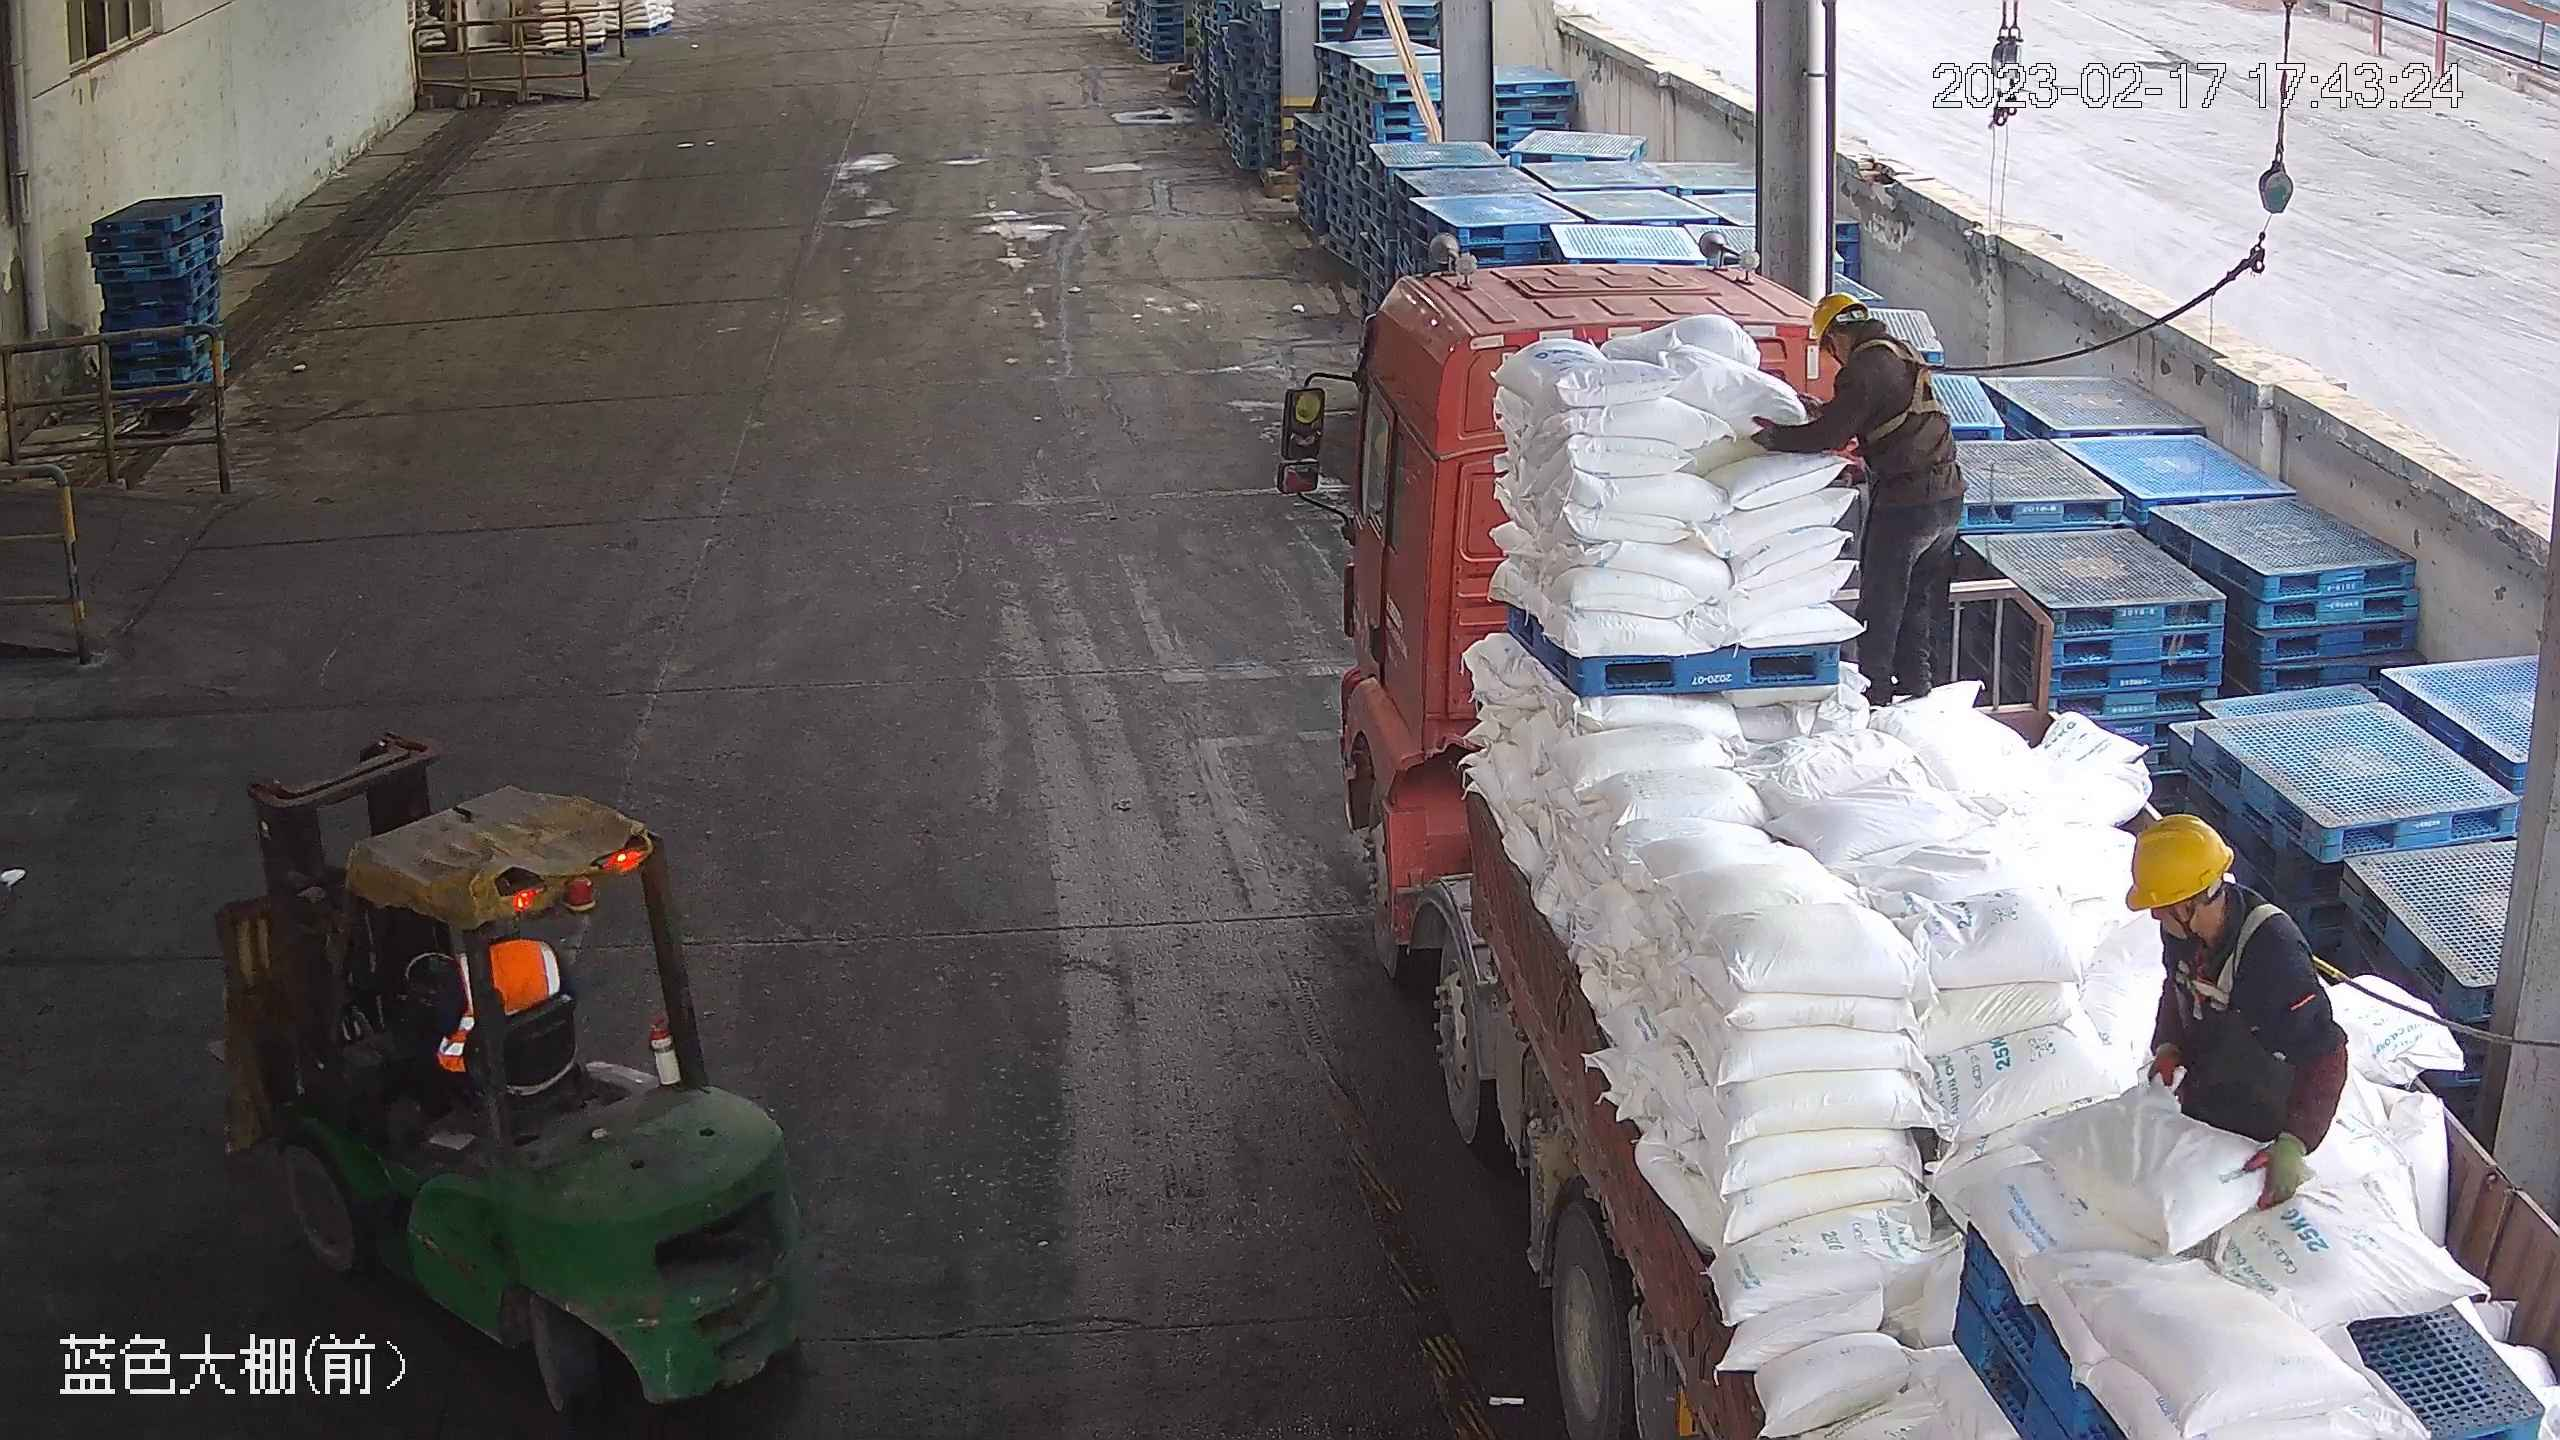belt: (2162, 905, 2364, 1022), (1861, 339, 1962, 442)
head: (2125, 810, 2312, 1013), (1793, 294, 1949, 423)
helmet: (2125, 808, 2237, 918), (1813, 294, 1871, 347)
people: (2123, 810, 2354, 1215), (1751, 291, 1969, 710)
truck: (1274, 257, 2560, 1440)
